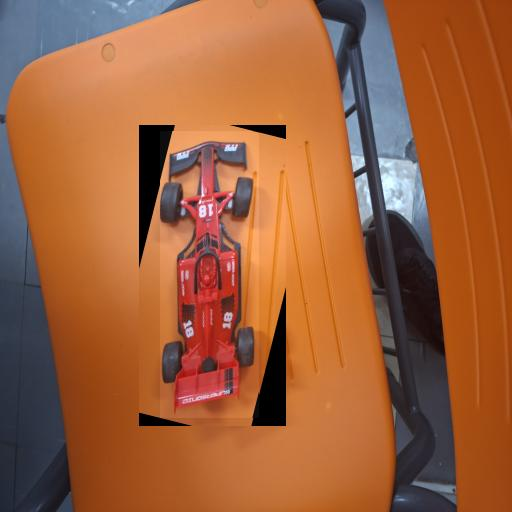carro: (161, 131, 259, 418)
